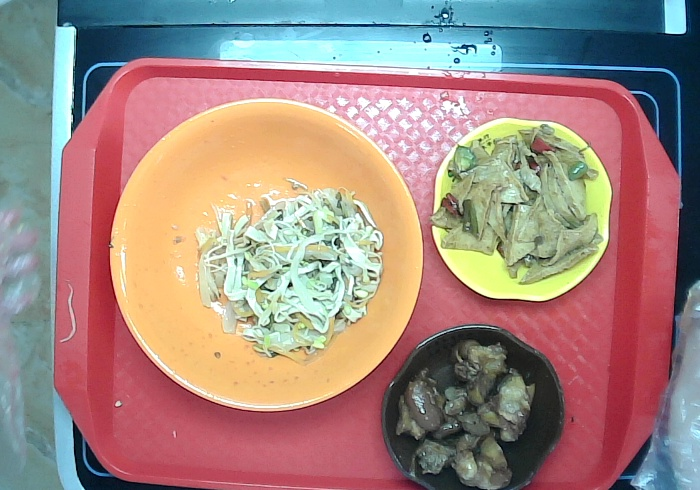YKMZ-Huang_Se_Ao_Bian_Wan: (431, 116, 614, 303)
YKMZ-Ju_Se_Tang_Wan: (111, 94, 421, 410)
YKMZ-Ka_Fei_Ao_Bian_Wan: (381, 323, 565, 490)
